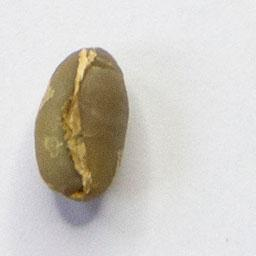peaberry: (30, 42, 134, 207)
